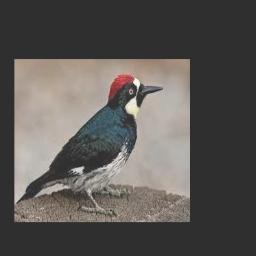Woodpecker: (16, 74, 164, 214)
